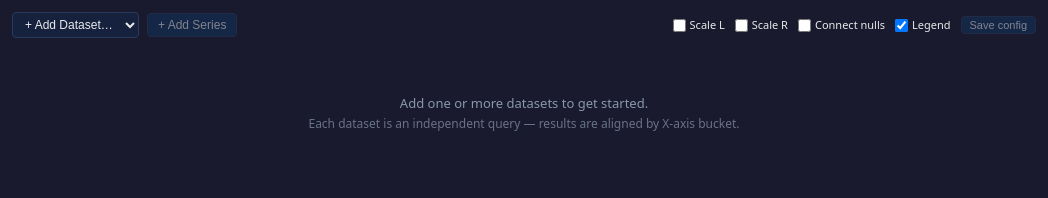
MultiQueryChart — adding a dataset › shows a Run button after adding a dataset
Select "Revenue Query" in the dropdown at (76, 25), box top-left (12, 12), bottom-right (139, 38)
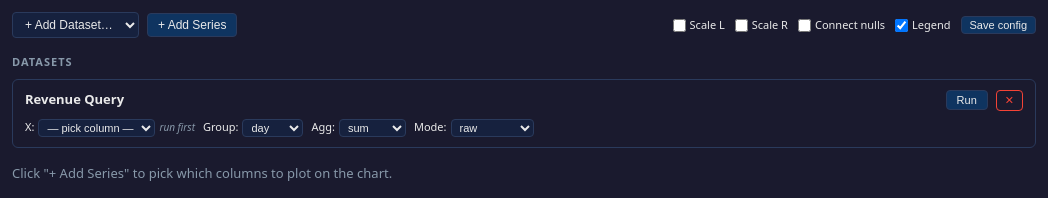
Expected: the button "Run" is shown, top-left (946, 90), bottom-right (988, 110)
